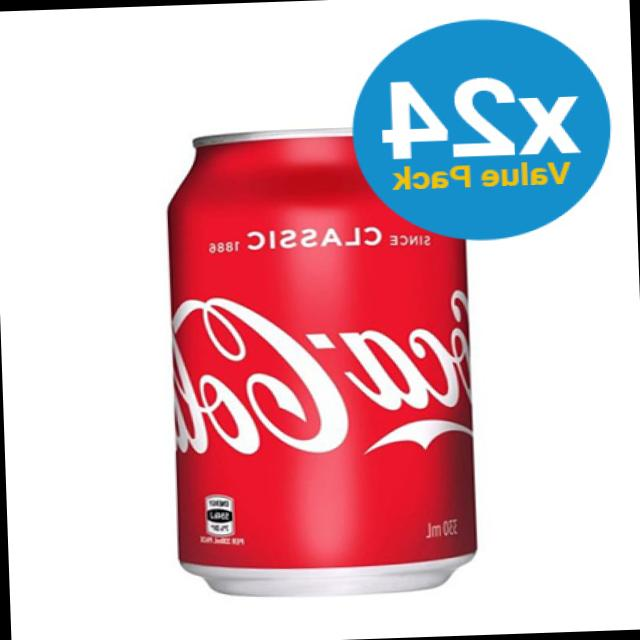cocacola: (160, 119, 482, 617)
